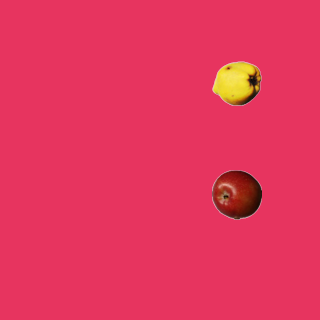Apple Braeburn: (211, 169, 261, 219)
Quince: (211, 58, 261, 108)
